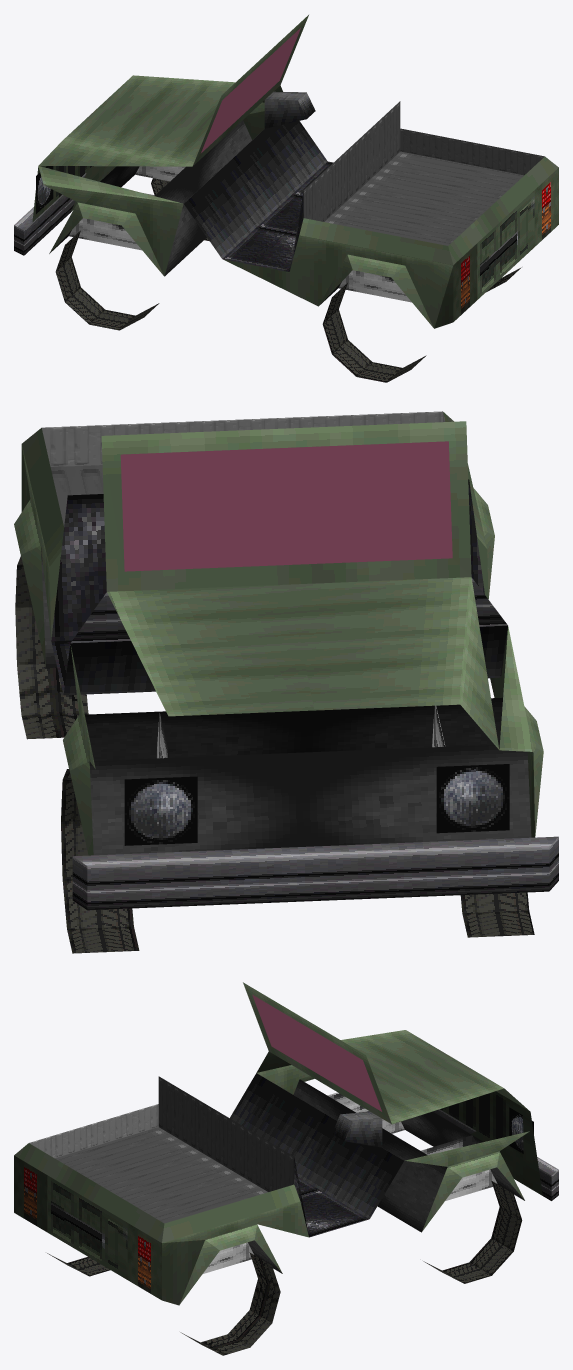
Rendered from primary_056.glb.
3 renders of one model, top to bottom at view 1: azimuth 30°, elevation 25°; view 2: azimuth 150°, elevation 25°; view 3: azimuth 270°, elevation 25°, orthographic. The views are drawn at different scales.
Parts seen in each view (by area): view 1: Object; view 2: Object; view 3: Object.
Part boxes in pixels (x1=…): Object: x1=14, y1=15, x2=558, y2=382; Object: x1=14, y1=411, x2=558, y2=953; Object: x1=14, y1=982, x2=558, y2=1355.
Size of the model in its own units: 4 by 2.18 by 4.42.
20 materials, 20 textured.
